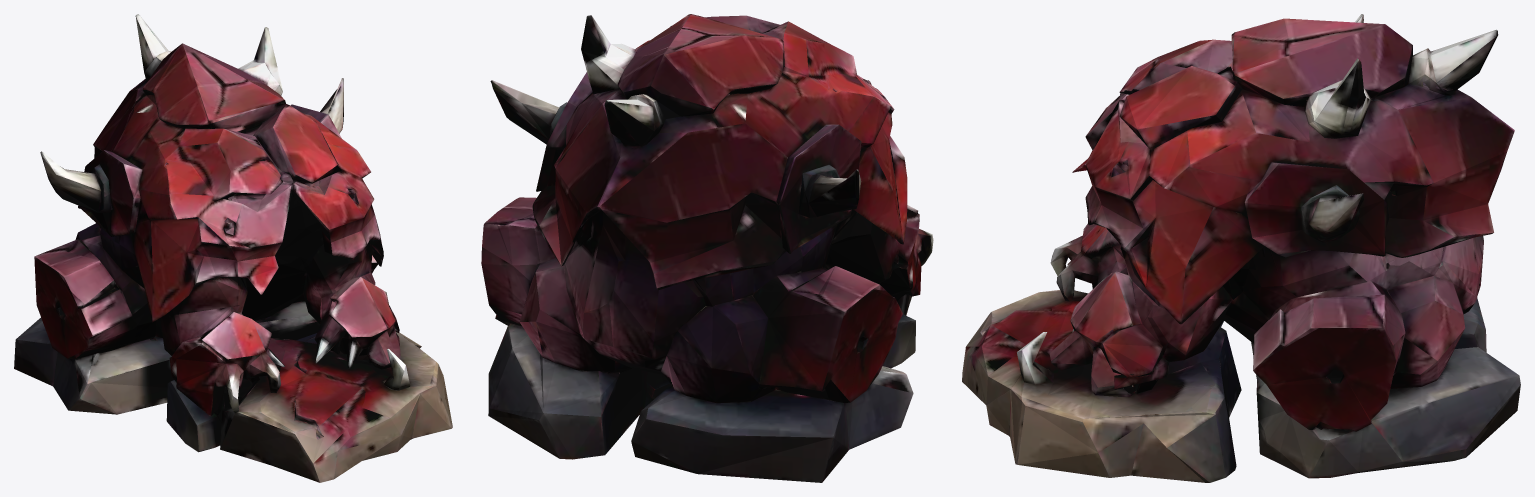
The model's file is orc_idol_broken_01.glb.
3 views of the same model, side by side, from view 1: azimuth 30°, elevation 25°; view 2: azimuth 150°, elevation 25°; view 3: azimuth 270°, elevation 25° (orthographic). The views are drawn at different scales.
Visible parts, largest first — view 1: geometry_0; view 2: geometry_0; view 3: geometry_0.
Part boxes in pixels (bbox=[...]): geometry_0: bbox=[14, 14, 452, 482]; geometry_0: bbox=[481, 14, 933, 482]; geometry_0: bbox=[962, 14, 1520, 482].
Bounding box in the file's own units: 0.7767 × 0.7532 × 0.9982.
1 material, 1 textured.
